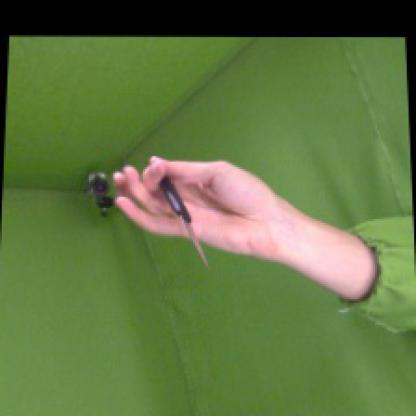Hand: (112, 154, 280, 258)
